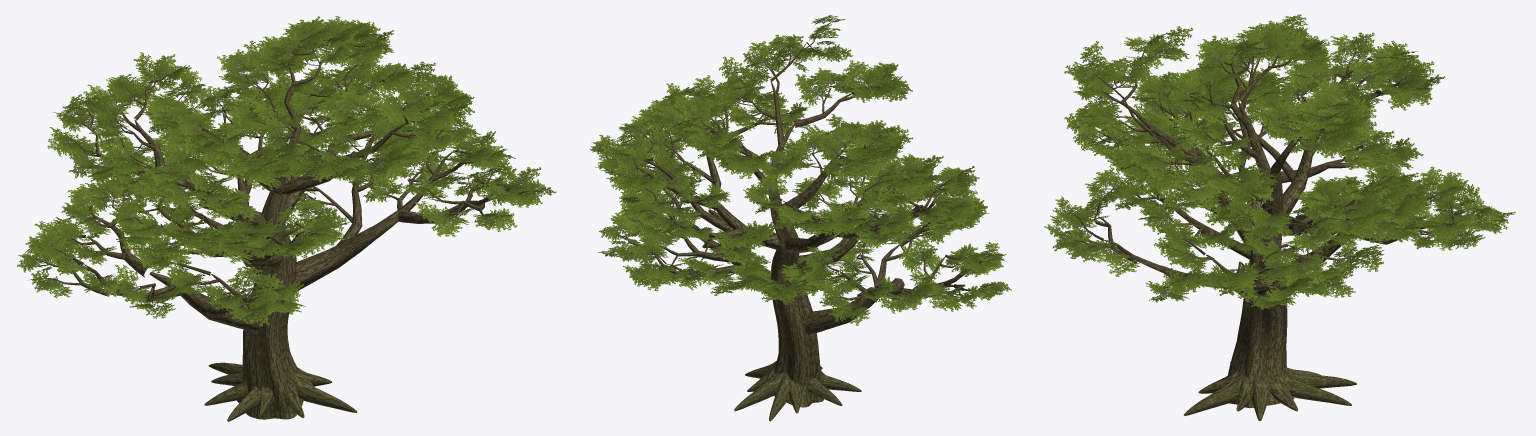
File: ruleline-hornbeam.glb
3 views of the same model, side by side, from view 1: azimuth 30°, elevation 25°; view 2: azimuth 150°, elevation 25°; view 3: azimuth 270°, elevation 25° (orthographic). The views are drawn at different scales.
Parts seen in each view (by area): view 1: Old hornbeam; view 2: Old hornbeam; view 3: Old hornbeam.
Boxes of the visible parts, <box> form: Old hornbeam: <box>17,16,556,421</box>; Old hornbeam: <box>590,15,1011,421</box>; Old hornbeam: <box>1044,14,1515,420</box>.
Bounding box in the file's own units: 17.82 × 13.36 × 15.51.
Materials: 2 (2 with a texture image).
